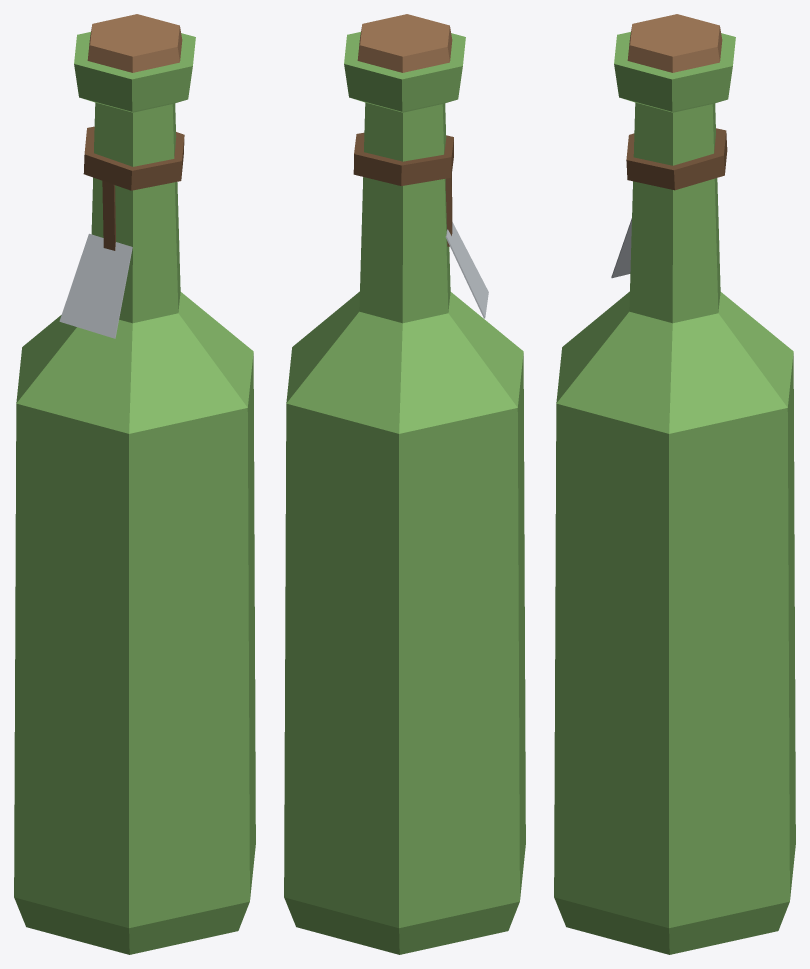
File: Green_Potion_14(Label).fbx
The picture shows the model from 3 angles, left to right: view 1: azimuth 30°, elevation 25°; view 2: azimuth 150°, elevation 25°; view 3: azimuth 270°, elevation 25°; orthographic projection.
Visible parts, largest first — view 1: Green_Potion_14(Label); view 2: Green_Potion_14(Label); view 3: Green_Potion_14(Label).
Boxes of the visible parts, <box> form: Green_Potion_14(Label): <box>14,14,255,954</box>; Green_Potion_14(Label): <box>284,14,525,954</box>; Green_Potion_14(Label): <box>554,14,795,954</box>.
Size of the model in its own units: 13.19 by 46.35 by 11.71.
